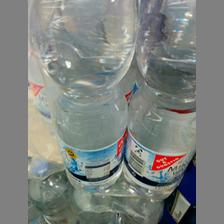Wasser: (30, 0, 138, 192), (122, 0, 194, 196)
